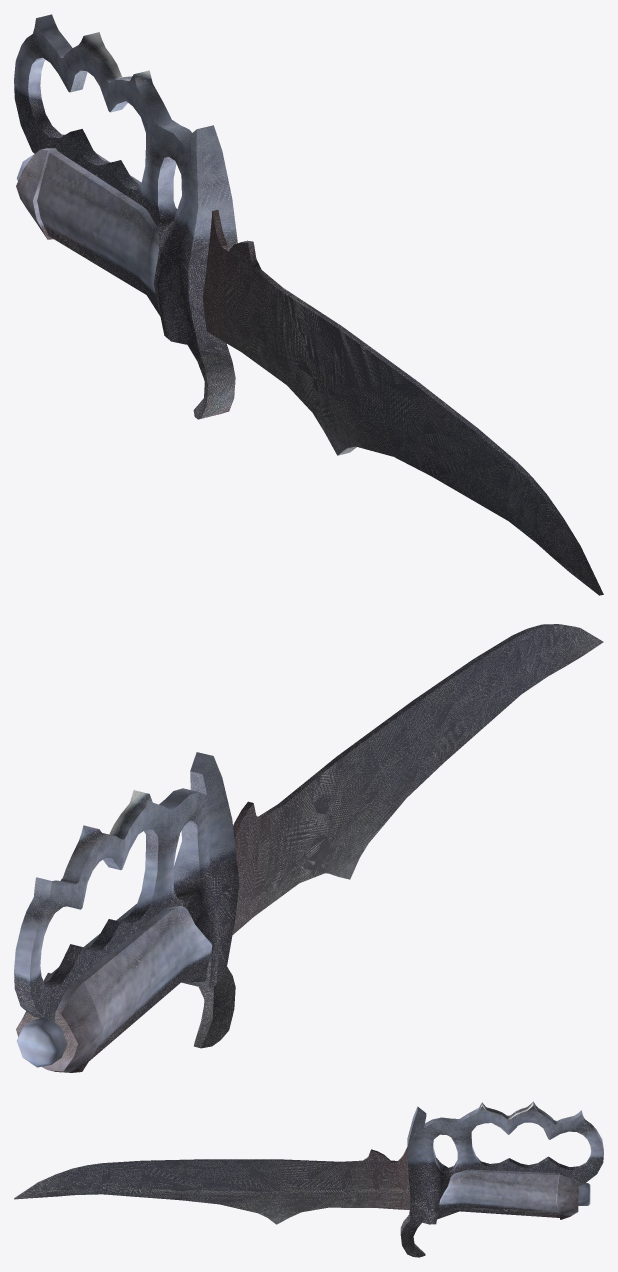
Rendered from model_align.obj.
The picture shows the model from 3 angles, top to bottom: view 1: azimuth 30°, elevation 25°; view 2: azimuth 150°, elevation 25°; view 3: azimuth 270°, elevation 25°; orthographic projection. The views are drawn at different scales.
Visible parts, largest first — view 1: mesh1_mesh1-geometry, mesh3_mesh3-geometry; view 2: mesh1_mesh1-geometry, mesh3_mesh3-geometry, mesh2_mesh2-geometry; view 3: mesh3_mesh3-geometry, mesh1_mesh1-geometry, mesh2_mesh2-geometry.
Part boxes in pixels (x1,y1,x2,y2): mesh1_mesh1-geometry: (14,14,237,419); mesh3_mesh3-geometry: (202,210,603,595); mesh1_mesh1-geometry: (14,752,239,1072); mesh3_mesh3-geometry: (232,624,603,934); mesh2_mesh2-geometry: (17,1016,67,1067); mesh3_mesh3-geometry: (14,1147,410,1224); mesh1_mesh1-geometry: (400,1101,603,1257); mesh2_mesh2-geometry: (578,1183,590,1205).
Size of the model in its own units: 0.0146 by 0.0588 by 0.2069.
